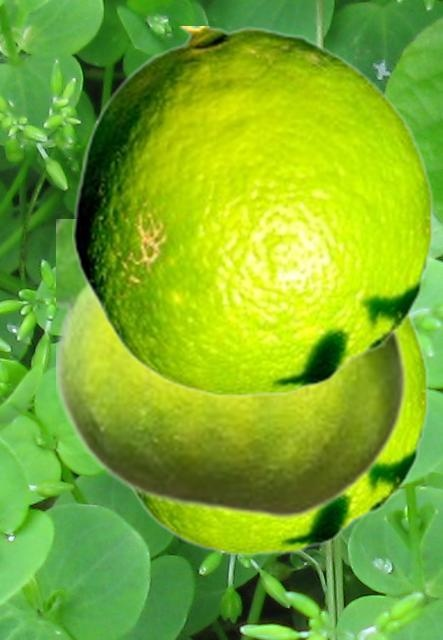dalandan: (72, 26, 433, 397), (56, 219, 408, 520), (126, 311, 428, 555)
